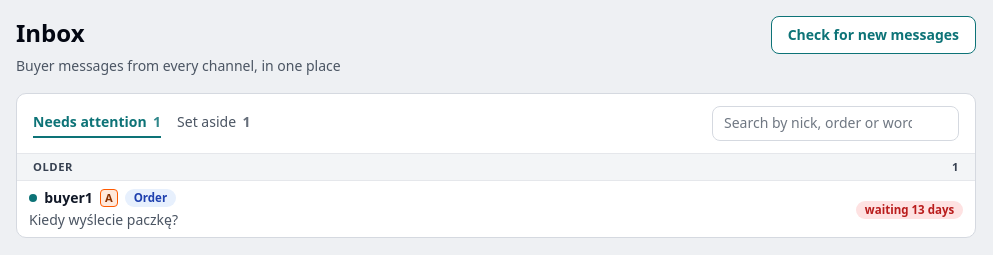
Test: searching the inbox › clears the search and goes back to the tab it left
The width and height of the screenshot is (993, 255).
Expected: the text "buyer1" is shown, left=44, top=188, right=93, bottom=208
Type "martita" into the search field at (835, 123), box left=712, top=106, right=959, bottom=141
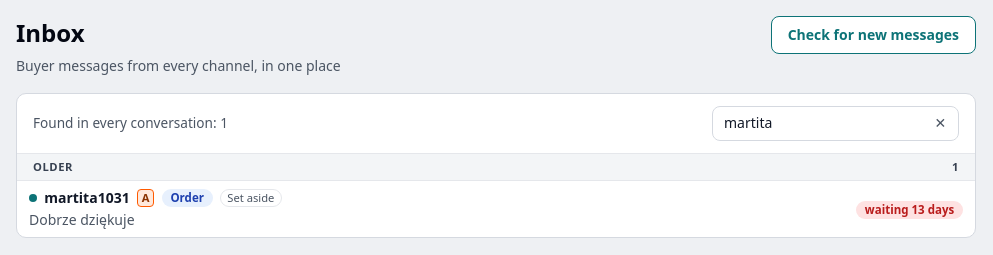
Expected: the text "martita1031" is shown, left=44, top=188, right=130, bottom=208
Click the button named "Clear the search" at (940, 123), box left=928, top=109, right=953, bottom=137
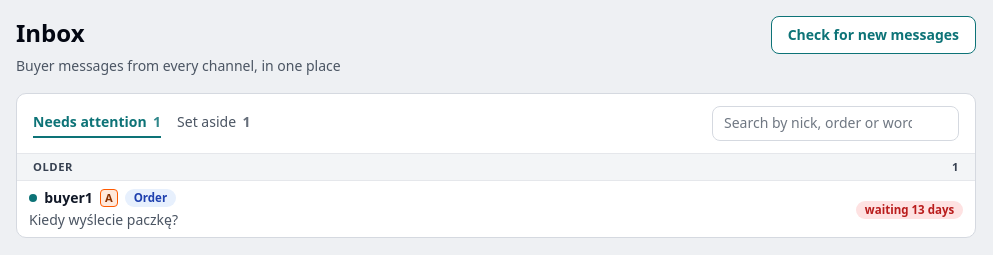
Expected: the text "buyer1" is shown, left=44, top=188, right=93, bottom=208
Expected: the search field is empty, left=712, top=106, right=959, bottom=141
Expected: the number of tabs is 2, left=33, top=108, right=161, bottom=138; left=177, top=108, right=250, bottom=138
